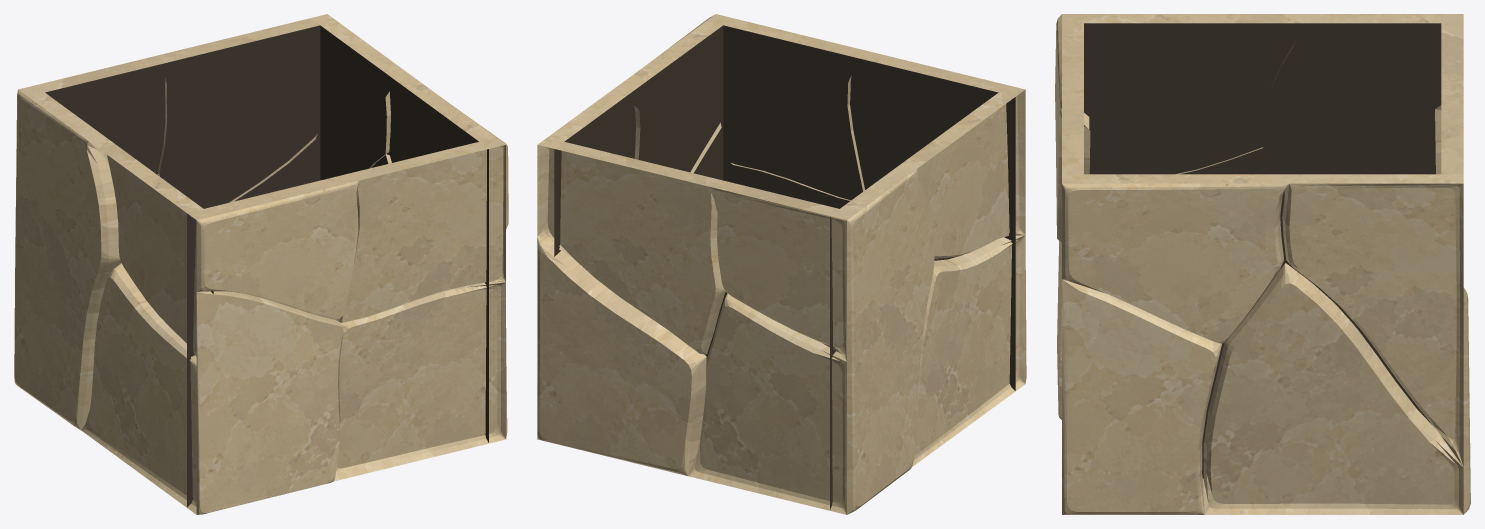
File: ground_island_04.glb
3 renders of one model, left to right at view 1: azimuth 30°, elevation 25°; view 2: azimuth 150°, elevation 25°; view 3: azimuth 270°, elevation 25°, orthographic. The views are drawn at different scales.
Visible parts, largest first — view 1: GroundIsland04_Body; view 2: GroundIsland04_Body; view 3: GroundIsland04_Body.
Part boxes in pixels (bbox=[...]): GroundIsland04_Body: bbox=[14, 14, 508, 514]; GroundIsland04_Body: bbox=[537, 14, 1026, 514]; GroundIsland04_Body: bbox=[1055, 14, 1470, 514].
Size of the model in its own units: 1.04 by 0.91 by 1.04.
Materials: 17 (16 with a texture image).
